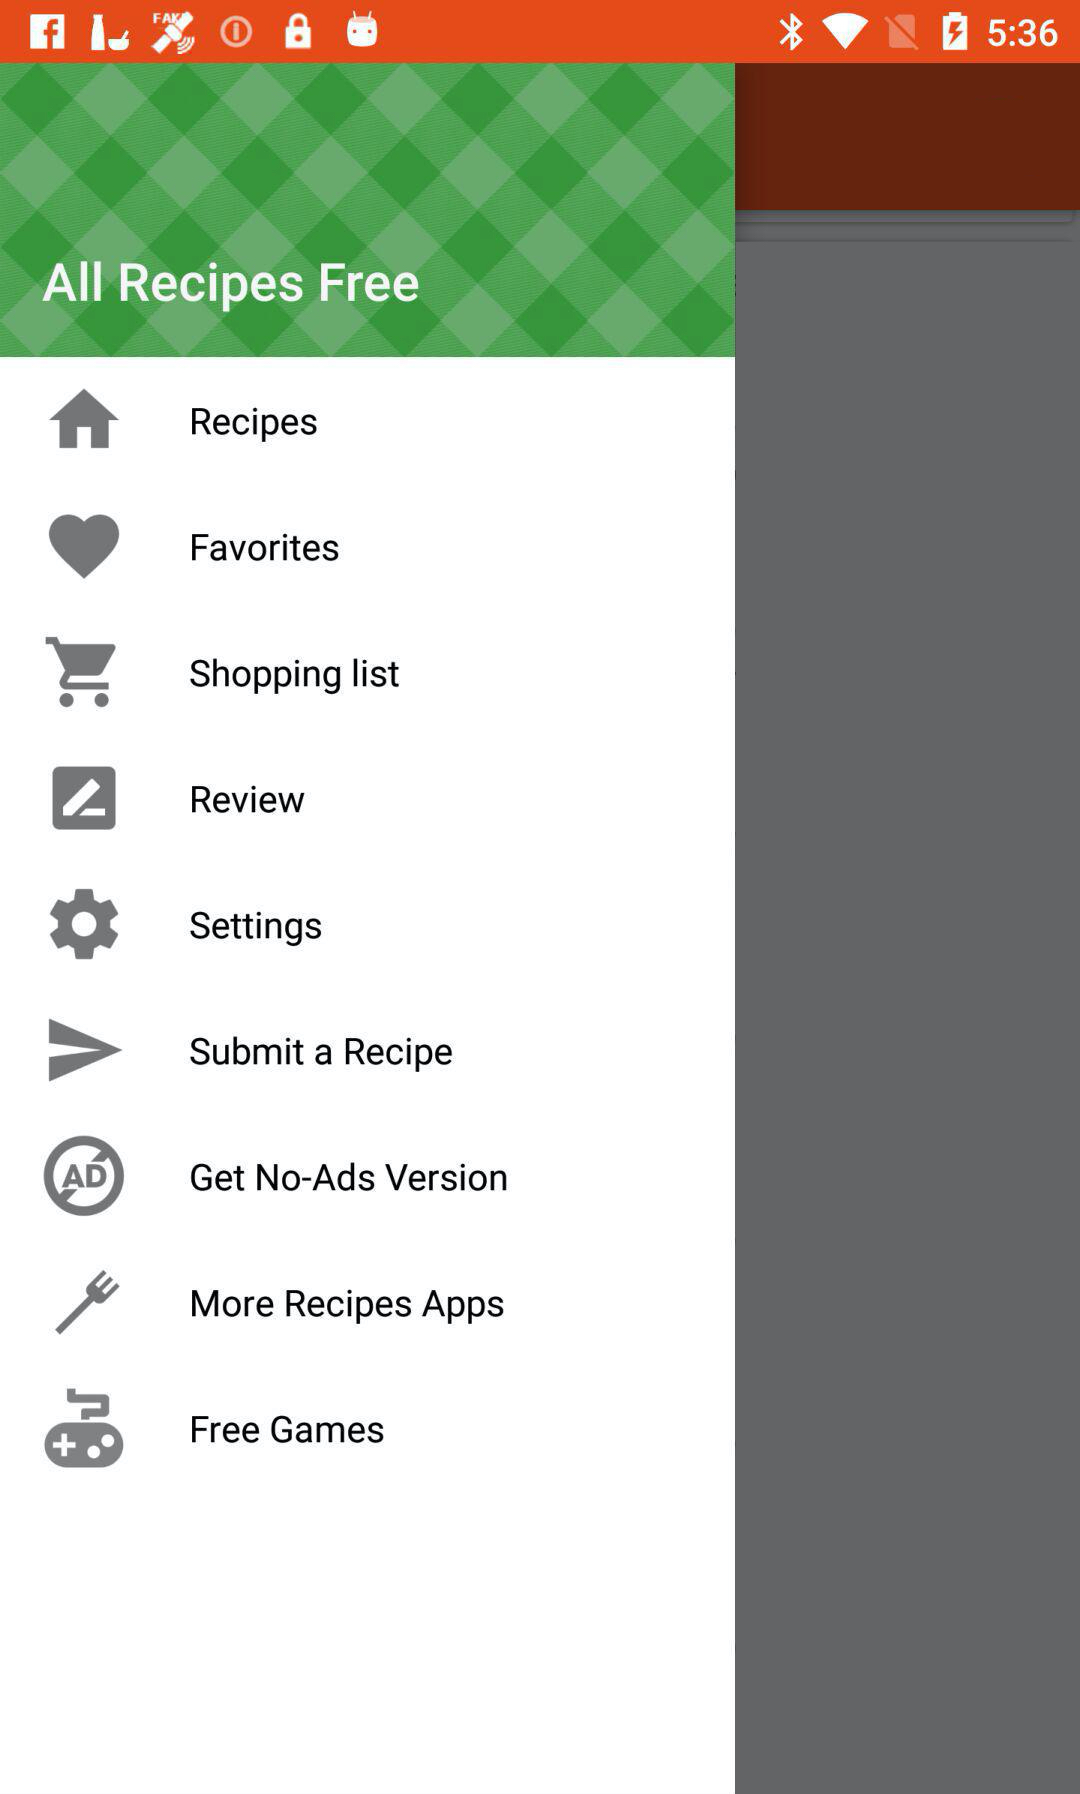Drawer: (1, 65, 735, 1793)
Icon: (45, 636, 118, 709), (49, 888, 120, 961), (49, 1017, 124, 1083), (49, 514, 120, 580), (47, 387, 120, 451), (53, 766, 117, 832)
Image: (44, 1135, 126, 1219), (44, 1388, 126, 1469), (55, 1269, 122, 1335)
Text: (42, 259, 421, 315), (191, 1287, 506, 1326), (190, 1161, 509, 1194), (190, 1035, 454, 1074), (190, 657, 402, 696), (191, 1413, 386, 1445), (190, 910, 323, 948), (190, 406, 319, 443), (191, 532, 341, 564), (191, 784, 307, 818)
UpperTaskBar: (1, 1, 1080, 64)
